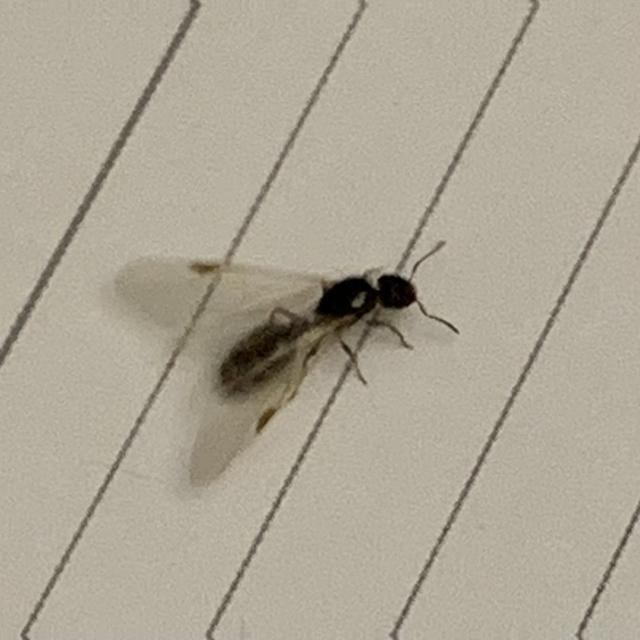Tetramorium: (128, 186, 486, 472)
